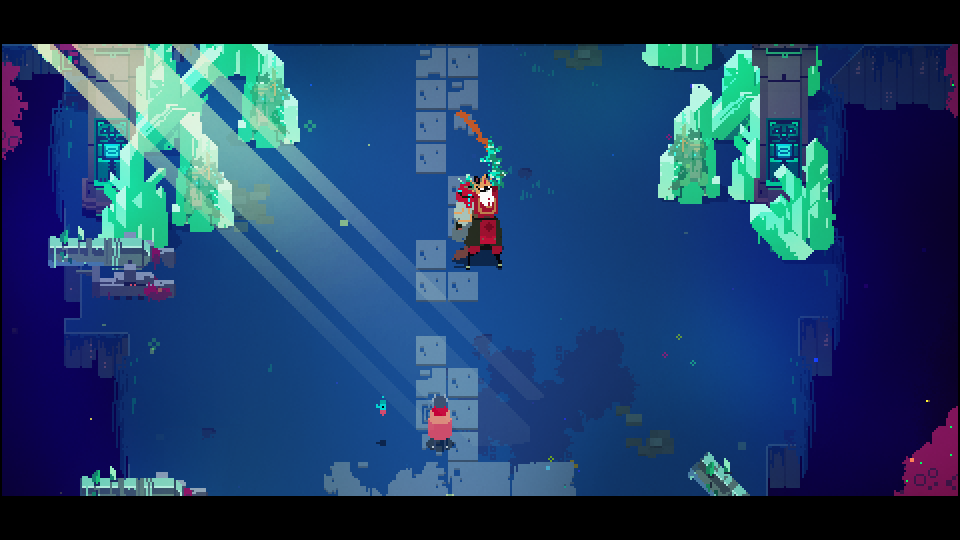hanged_man: (446, 127, 510, 271)
player: (425, 393, 454, 452)
